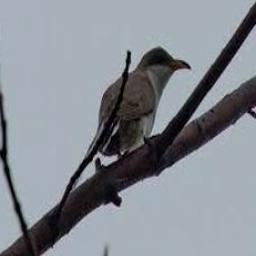Cuckoo: (93, 44, 190, 156)
